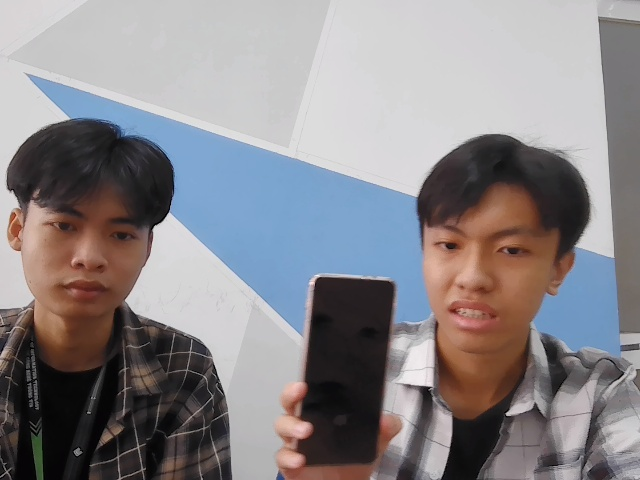human: (416, 135, 590, 358), (4, 119, 175, 321)
phone: (290, 267, 397, 472)
